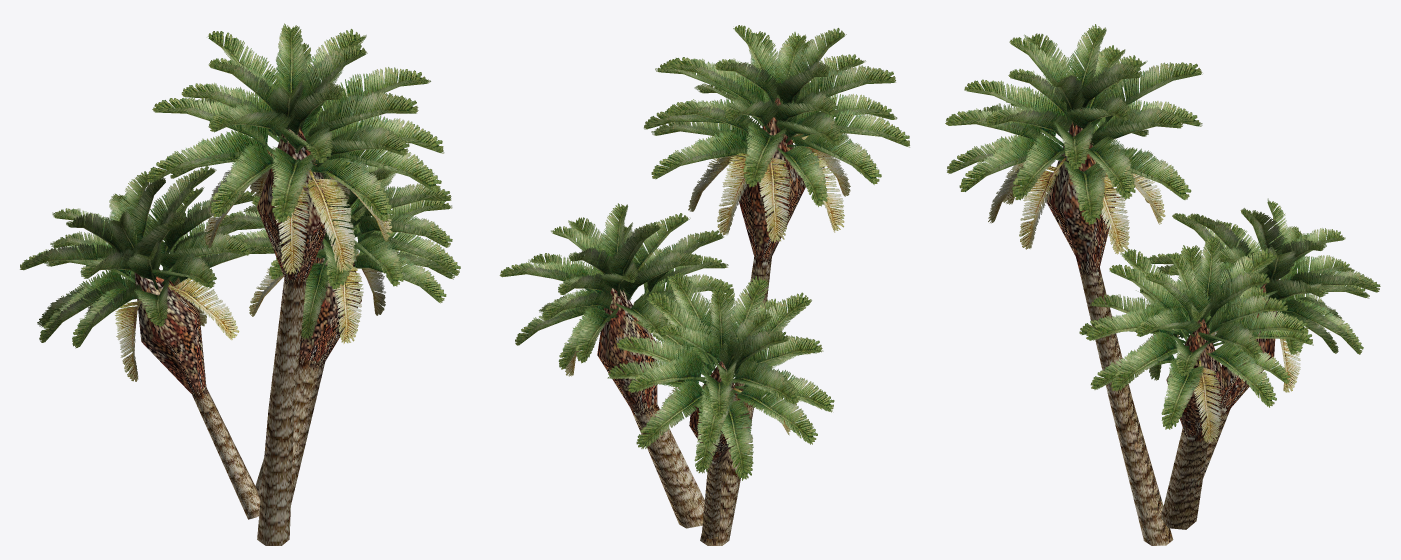
Rendered from tree_cretan_date_palm_patch_01.glb.
3 renders of one model, left to right at view 1: azimuth 30°, elevation 25°; view 2: azimuth 150°, elevation 25°; view 3: azimuth 270°, elevation 25°, orthographic. The views are drawn at different scales.
Parts seen in each view (by area): view 1: tree_cretan_date_palm_patch_01; view 2: tree_cretan_date_palm_patch_01; view 3: tree_cretan_date_palm_patch_01.
Boxes of the visible parts, bbox=[...] form: tree_cretan_date_palm_patch_01: bbox=[20, 23, 460, 545]; tree_cretan_date_palm_patch_01: bbox=[499, 25, 909, 545]; tree_cretan_date_palm_patch_01: bbox=[945, 24, 1380, 545].
Bounding box in the file's own units: 12.91 × 17.73 × 14.7.
1 material, 1 textured.
